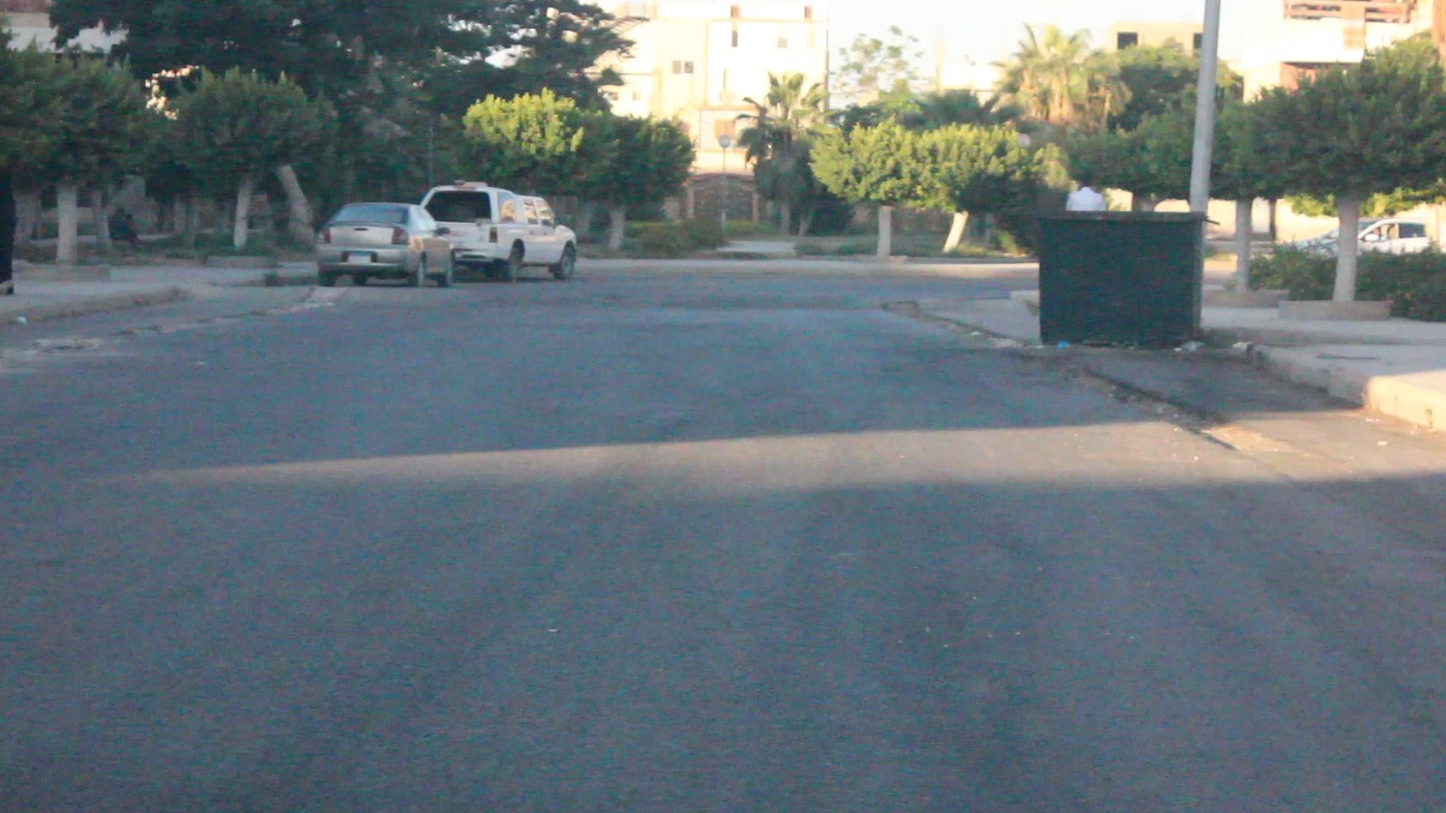Bump: (313, 284, 894, 314)
